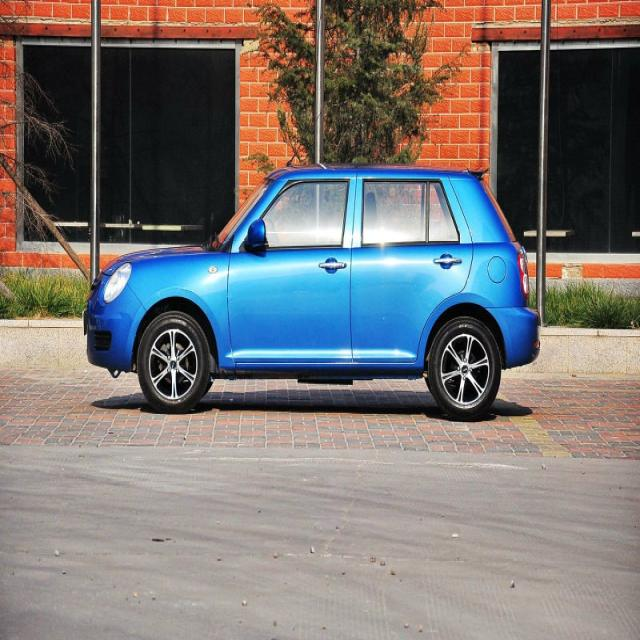back_left_side_light: (518, 247, 530, 300)
door: (353, 169, 474, 358)
front_left_side_door: (226, 167, 360, 366)
front_left_side_light: (102, 260, 134, 304)
front_left_side_mirror: (246, 218, 268, 253)
wheel: (428, 316, 502, 421), (137, 310, 210, 412)
